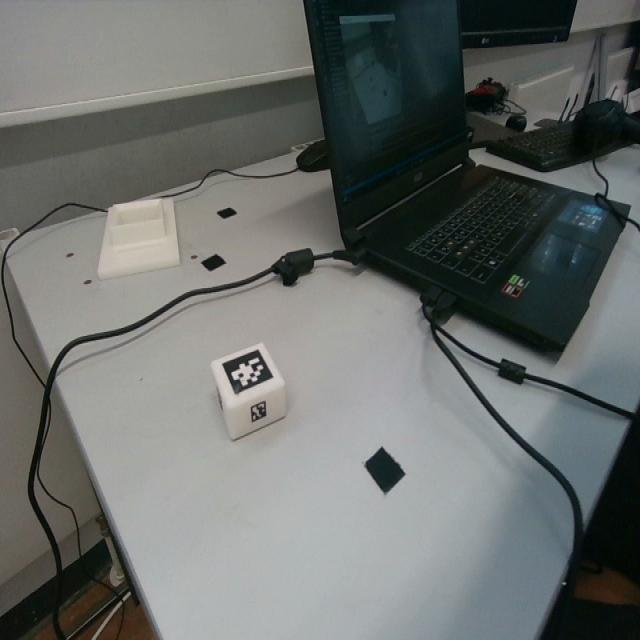Cube: (209, 341, 286, 440)
